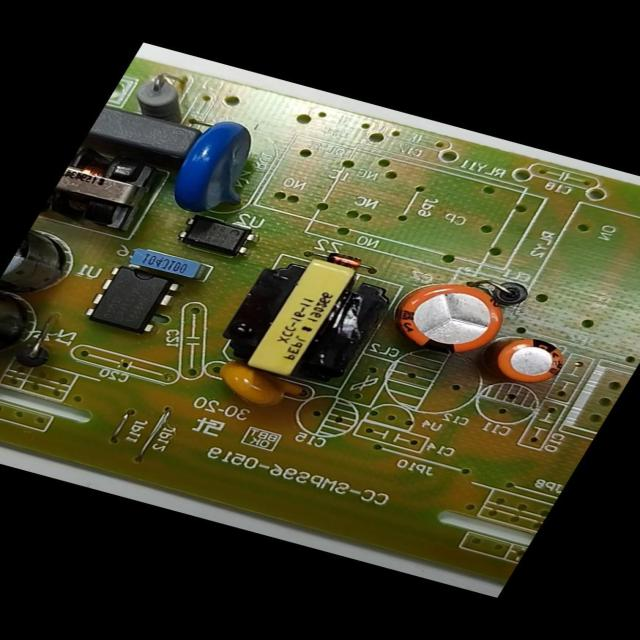Cap1: (368, 263, 530, 369)
Cap2: (469, 324, 586, 401)
Cap3: (0, 220, 102, 312)
Cap4: (0, 281, 67, 375)
MOSFET: (72, 253, 195, 342)
Mov: (150, 110, 284, 228)
Resistor: (119, 66, 208, 128)
Transformer: (204, 242, 410, 394), (39, 142, 173, 238)
